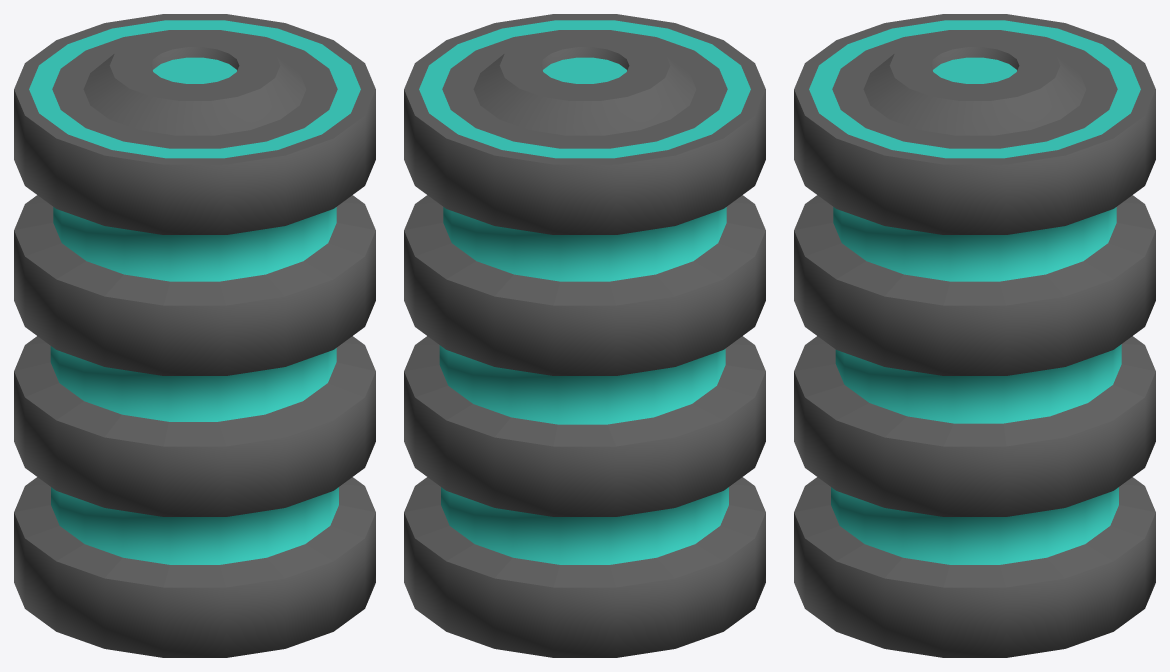
Rendered from Item_Barrel_Futuristic.fbx.
3 views of the same model, side by side, from view 1: azimuth 30°, elevation 25°; view 2: azimuth 150°, elevation 25°; view 3: azimuth 270°, elevation 25° (orthographic).
Visible parts, largest first — view 1: Item Barrel Futuristic; view 2: Item Barrel Futuristic; view 3: Item Barrel Futuristic.
Boxes of the visible parts, box(x1,y1,x2,y2) form: Item Barrel Futuristic: box(14, 14, 375, 657); Item Barrel Futuristic: box(404, 14, 765, 657); Item Barrel Futuristic: box(794, 14, 1155, 657).
Size of the model in its own units: 197 by 326 by 200.
